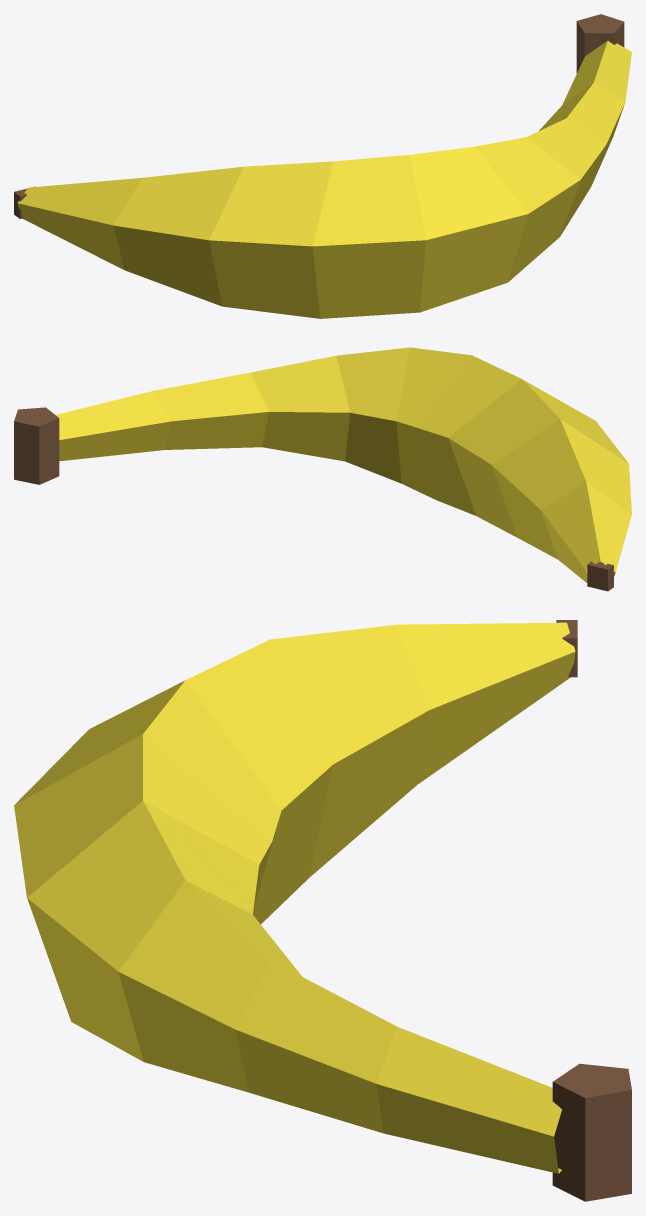
Rendered from banaana.glb.
The picture shows the model from 3 angles, top to bottom: view 1: azimuth 30°, elevation 25°; view 2: azimuth 150°, elevation 25°; view 3: azimuth 270°, elevation 25°; orthographic projection. The views are drawn at different scales.
Parts seen in each view (by area): view 1: Banana, Cylinder; view 2: Banana, Cylinder, Cube; view 3: Banana, Cylinder.
Part boxes in pixels (x1=…): Banana: x1=17, y1=41, x2=631, y2=318; Cylinder: x1=576, y1=14, x2=624, y2=73; Banana: x1=56, y1=347, x2=631, y2=582; Cylinder: x1=14, y1=407, x2=59, y2=484; Cube: x1=587, y1=561, x2=613, y2=591; Banana: x1=14, y1=622, x2=575, y2=1173; Cylinder: x1=552, y1=1063, x2=631, y2=1201.
Size of the model in its own units: 4.24 by 0.9045 by 2.16.
